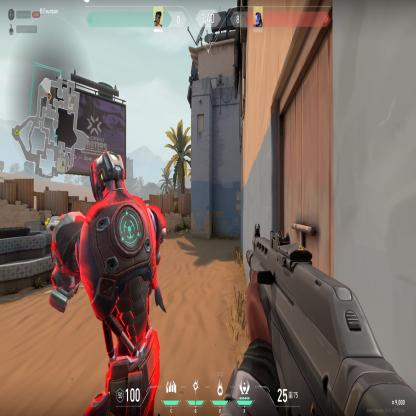enemy: (46, 148, 173, 377)
